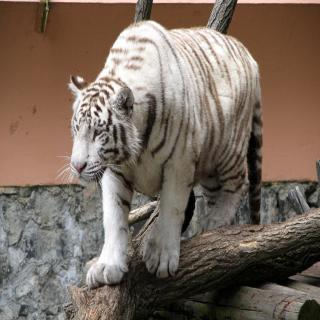Tiger: (55, 17, 261, 289)
